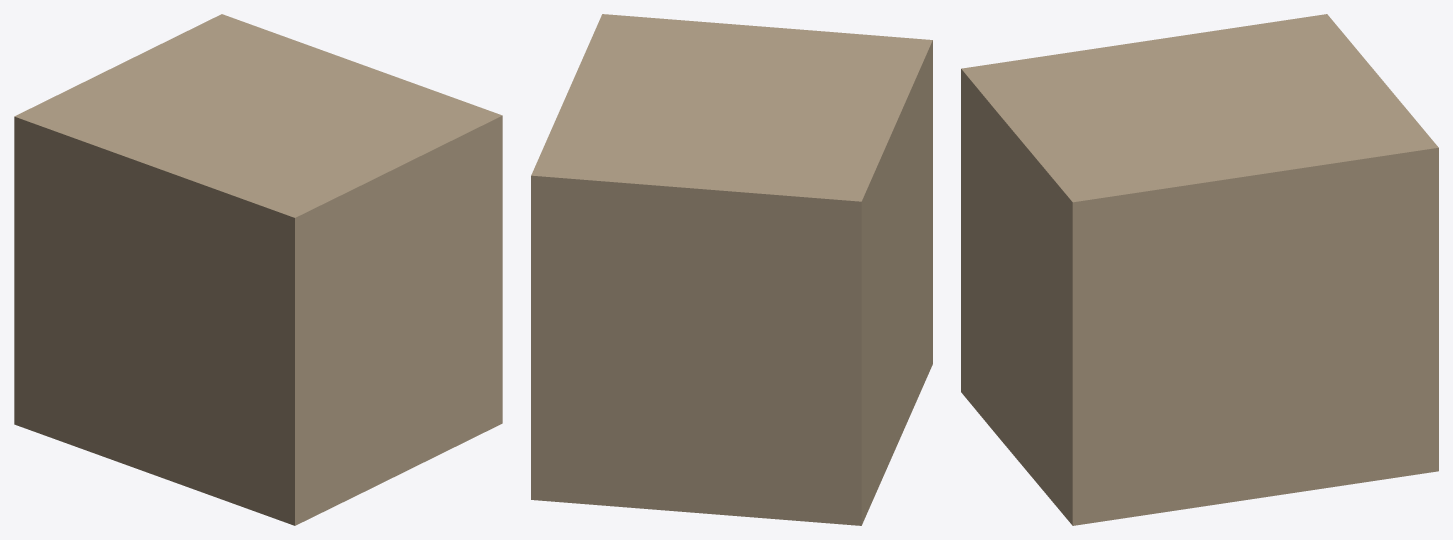
File: bld_100469443.dae
The picture shows the model from 3 angles, left to right: view 1: azimuth 30°, elevation 25°; view 2: azimuth 150°, elevation 25°; view 3: azimuth 270°, elevation 25°; orthographic projection. The views are drawn at different scales.
Visible parts, largest first — view 1: bld_100469443; view 2: bld_100469443; view 3: bld_100469443.
Part boxes in pixels (x1,y1,x2,y2): bld_100469443: [14, 14, 502, 525]; bld_100469443: [531, 14, 932, 525]; bld_100469443: [961, 14, 1438, 525].
Size of the model in its own units: 9.99 by 10.7 by 8.
